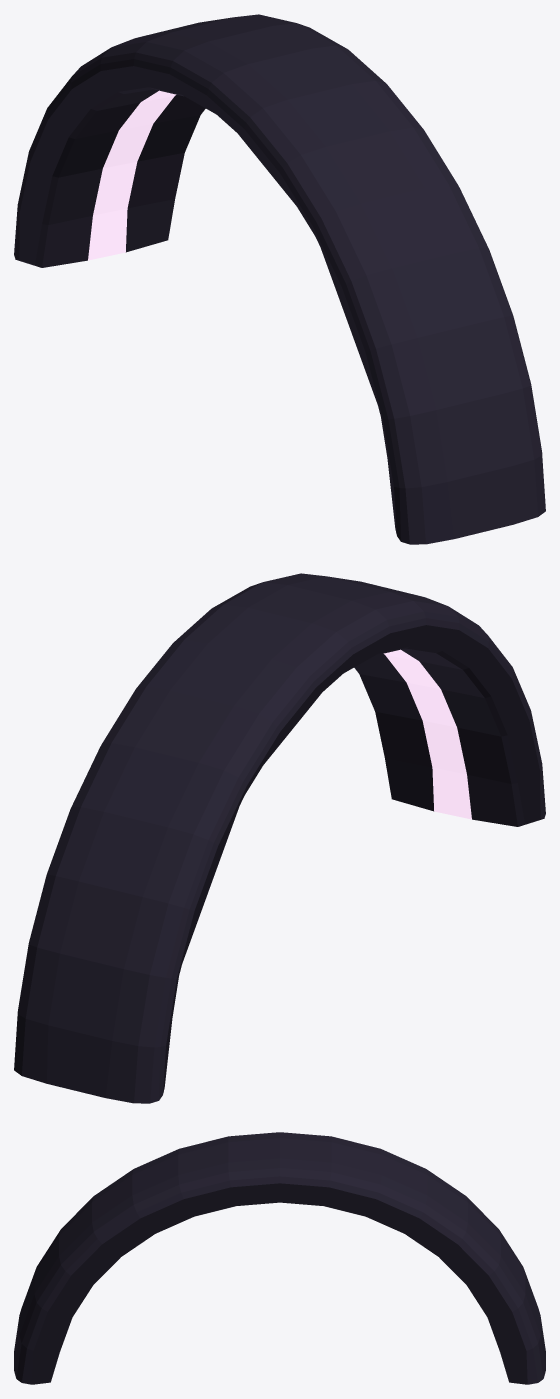
Rendered from Obstacle1.fbx.
3 views of the same model, one above another, from view 1: azimuth 30°, elevation 25°; view 2: azimuth 150°, elevation 25°; view 3: azimuth 270°, elevation 25° (orthographic). The views are drawn at different scales.
Parts seen in each view (by area): view 1: Circle; view 2: Circle; view 3: Circle.
Boxes of the visible parts, bbox=[...] form: Circle: bbox=[14, 14, 545, 544]; Circle: bbox=[14, 573, 545, 1103]; Circle: bbox=[14, 1132, 545, 1384].
Size of the model in its own units: 140 by 300 by 675.
